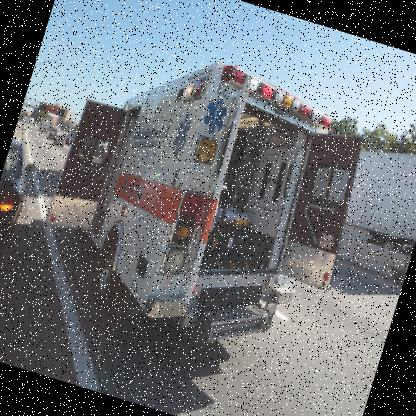Car: (0, 119, 59, 252), (52, 132, 66, 147), (46, 126, 57, 141), (63, 132, 74, 144)
